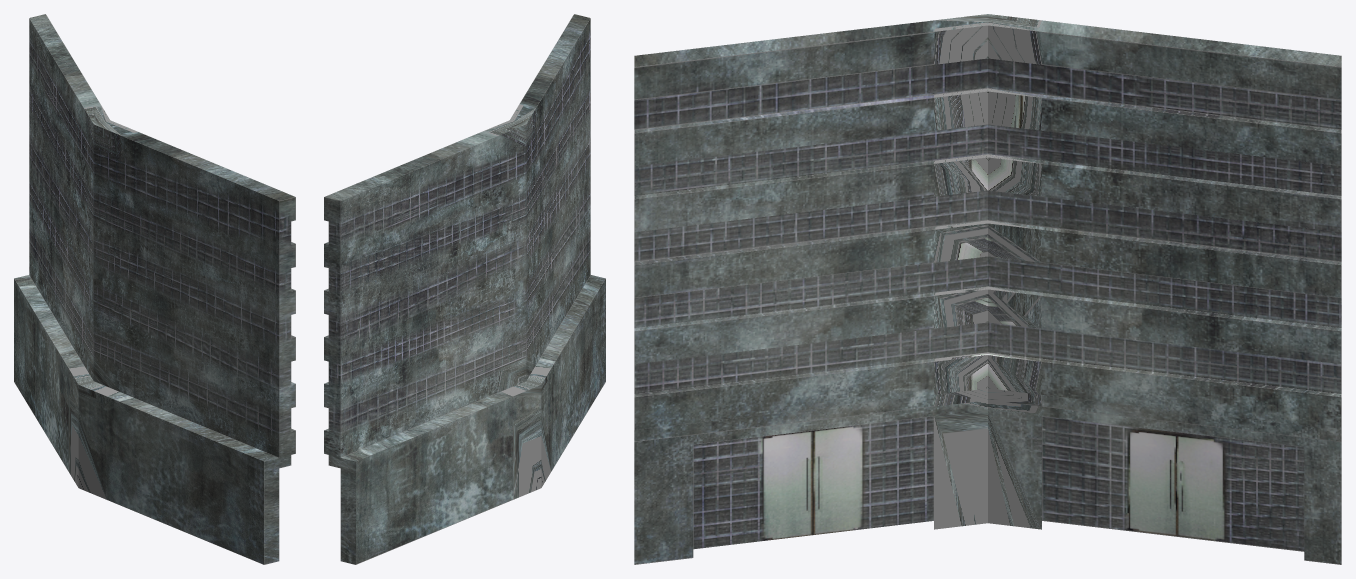
Rendered from building07-broken.fbx.
3 renders of one model, left to right at view 1: azimuth 30°, elevation 25°; view 2: azimuth 150°, elevation 25°; view 3: azimuth 270°, elevation 25°, orthographic. The views are drawn at different scales.
Parts seen in each view (by area): view 1: polySurface2, polySurface1; view 2: polySurface1, polySurface2; view 3: polySurface2, polySurface1.
Boxes of the visible parts, bbox=[...] form: polySurface2: bbox=[78, 120, 295, 564]; polySurface1: bbox=[14, 14, 109, 487]; polySurface1: bbox=[324, 120, 541, 564]; polySurface2: bbox=[510, 14, 605, 487]; polySurface2: bbox=[634, 14, 987, 564]; polySurface1: bbox=[988, 14, 1341, 564].
Size of the model in its own units: 4.64 by 17.29 by 21.76.
Materials: 1 (1 with a texture image).
